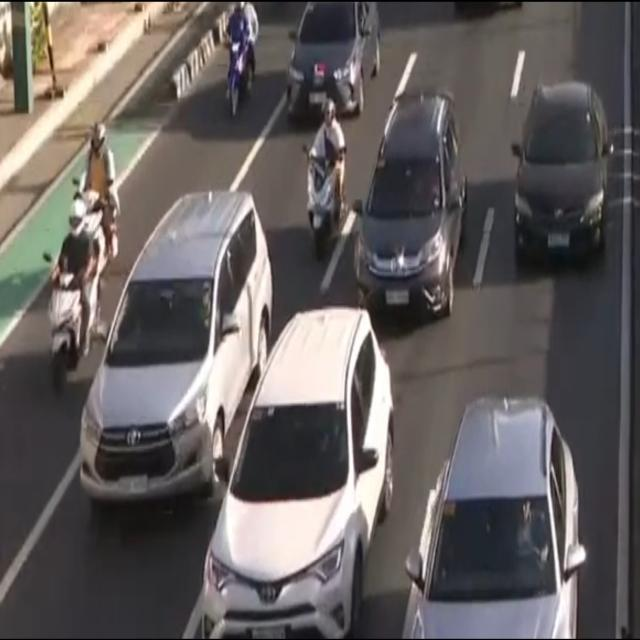Motorcycle: (41, 198, 102, 390), (72, 120, 121, 292), (303, 97, 347, 252), (222, 0, 257, 117)
SUV: (200, 303, 395, 640), (79, 188, 275, 514), (353, 86, 469, 327)
Sedan: (406, 394, 586, 640), (510, 82, 613, 269), (284, 0, 380, 124)
